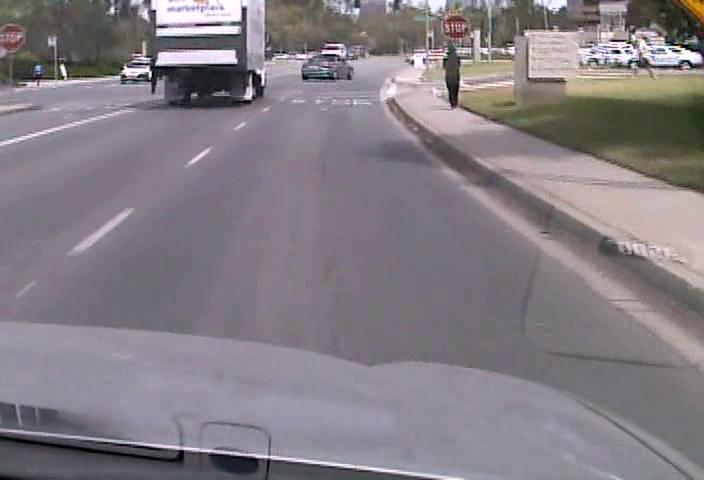stop: (442, 14, 468, 40)
